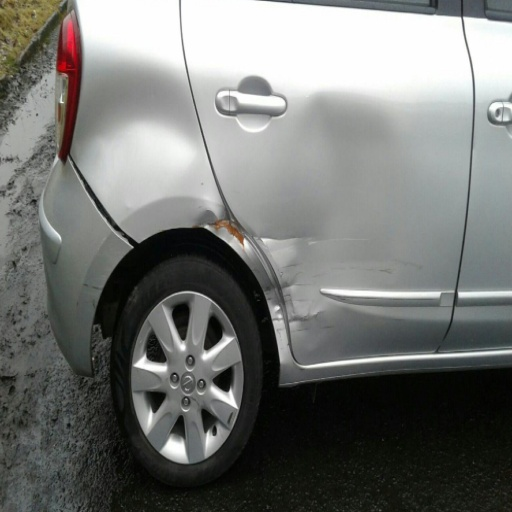dent: (196, 206, 334, 363), (276, 82, 395, 237), (91, 56, 197, 205)
rust: (196, 218, 249, 254), (207, 218, 244, 248), (192, 225, 204, 228)
scratch: (254, 232, 368, 246), (272, 309, 322, 322), (83, 282, 102, 309), (263, 283, 313, 293), (291, 325, 331, 337), (92, 236, 112, 259), (282, 281, 313, 294), (251, 235, 305, 242), (194, 205, 218, 219), (307, 238, 371, 243), (277, 261, 297, 274), (80, 282, 103, 292), (287, 298, 307, 309), (264, 285, 276, 302), (275, 327, 287, 342), (188, 396, 201, 409), (281, 262, 304, 269), (290, 328, 311, 335), (226, 410, 234, 425), (273, 316, 283, 328), (377, 268, 395, 274), (285, 299, 315, 302), (266, 296, 279, 302), (100, 272, 111, 279), (310, 274, 328, 278), (281, 293, 294, 298), (319, 326, 335, 330), (295, 366, 305, 371), (279, 271, 285, 278), (138, 337, 143, 345), (83, 301, 89, 304)
